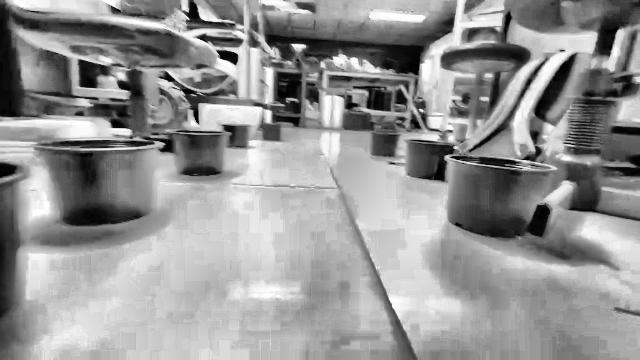pot: (35, 138, 160, 226), (446, 152, 556, 238), (167, 129, 230, 176), (406, 139, 454, 181), (371, 129, 400, 157), (221, 124, 250, 147), (262, 123, 281, 140)
